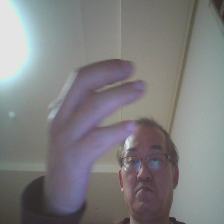hand: (44, 58, 150, 217)
